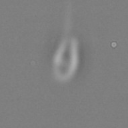normal: (62, 2, 84, 36)
